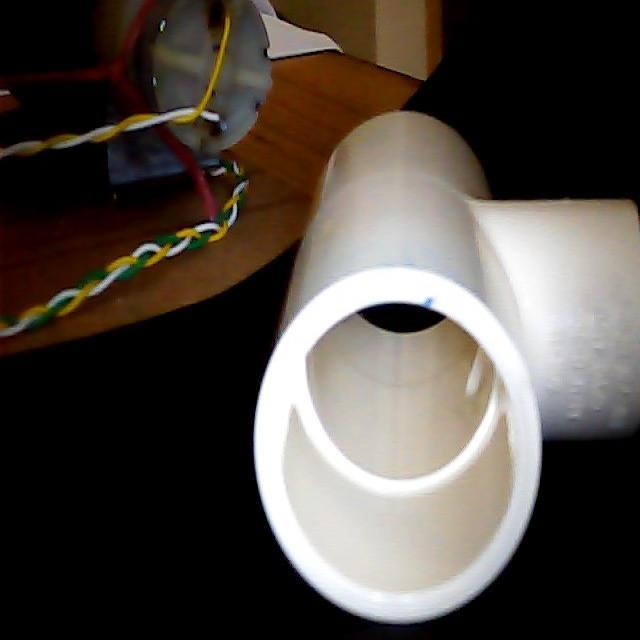T Joint: (252, 111, 640, 625)
